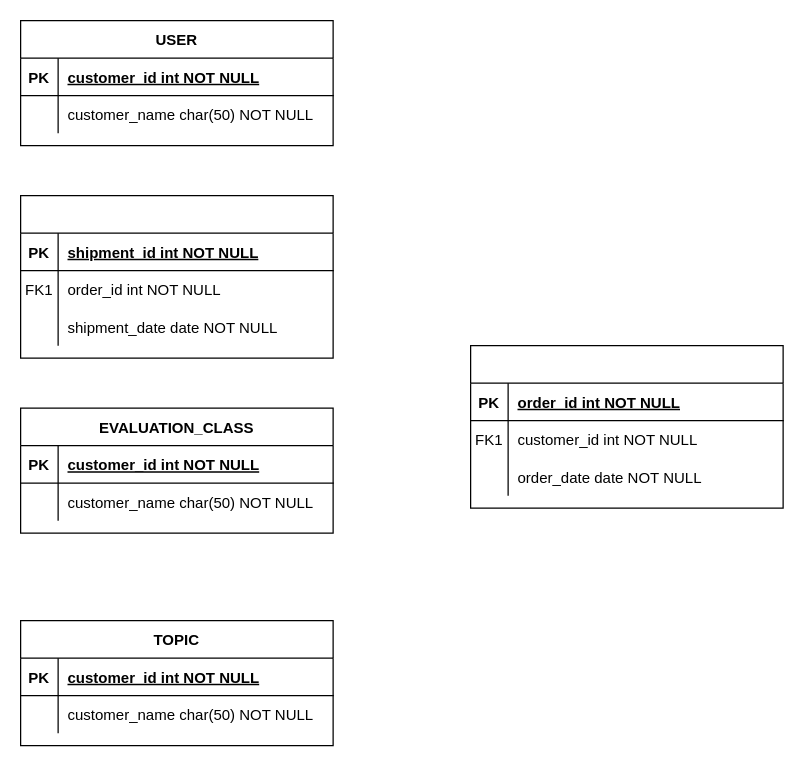
Image size: 804x766. Some labels were removed from this diagram. The shapes that lost their labels are listed below. From the top down, each one's box as (x1, y1, x2, y2) in pixels, then its label:
(19, 194, 333, 358): USER_CLASS
(469, 344, 783, 508): EVALUATION
